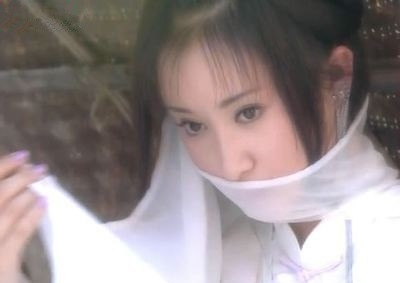face: (165, 39, 338, 221)
